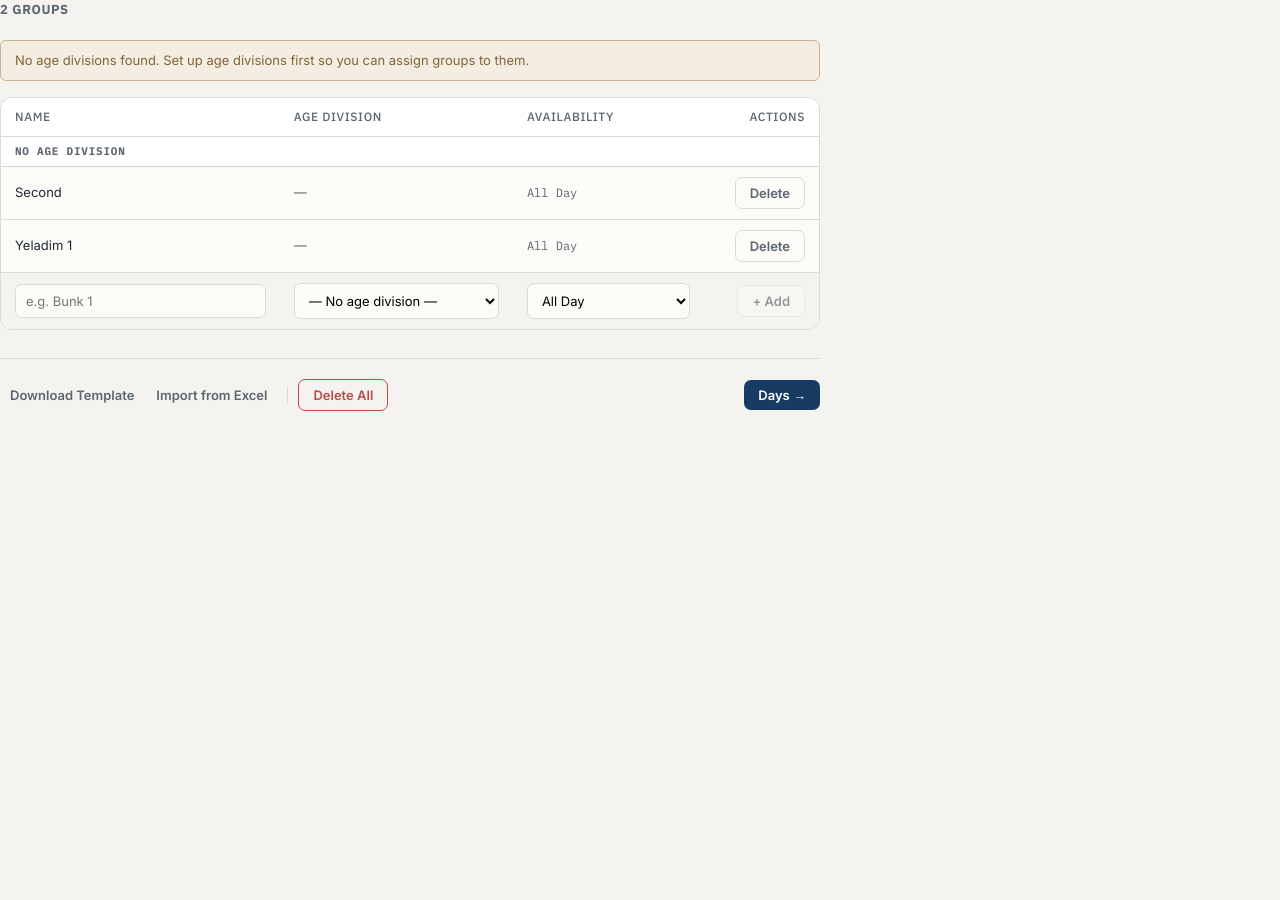
Scenario: GroupsScreen › deleteAll surfaces a partial-failure count rather than silently succeeding or aborting
expect the button "Yeladim 1" is shown: met, box [15,237,72,253]
Click the button "Delete All".
click(343, 394)  # box [298,378,388,410]
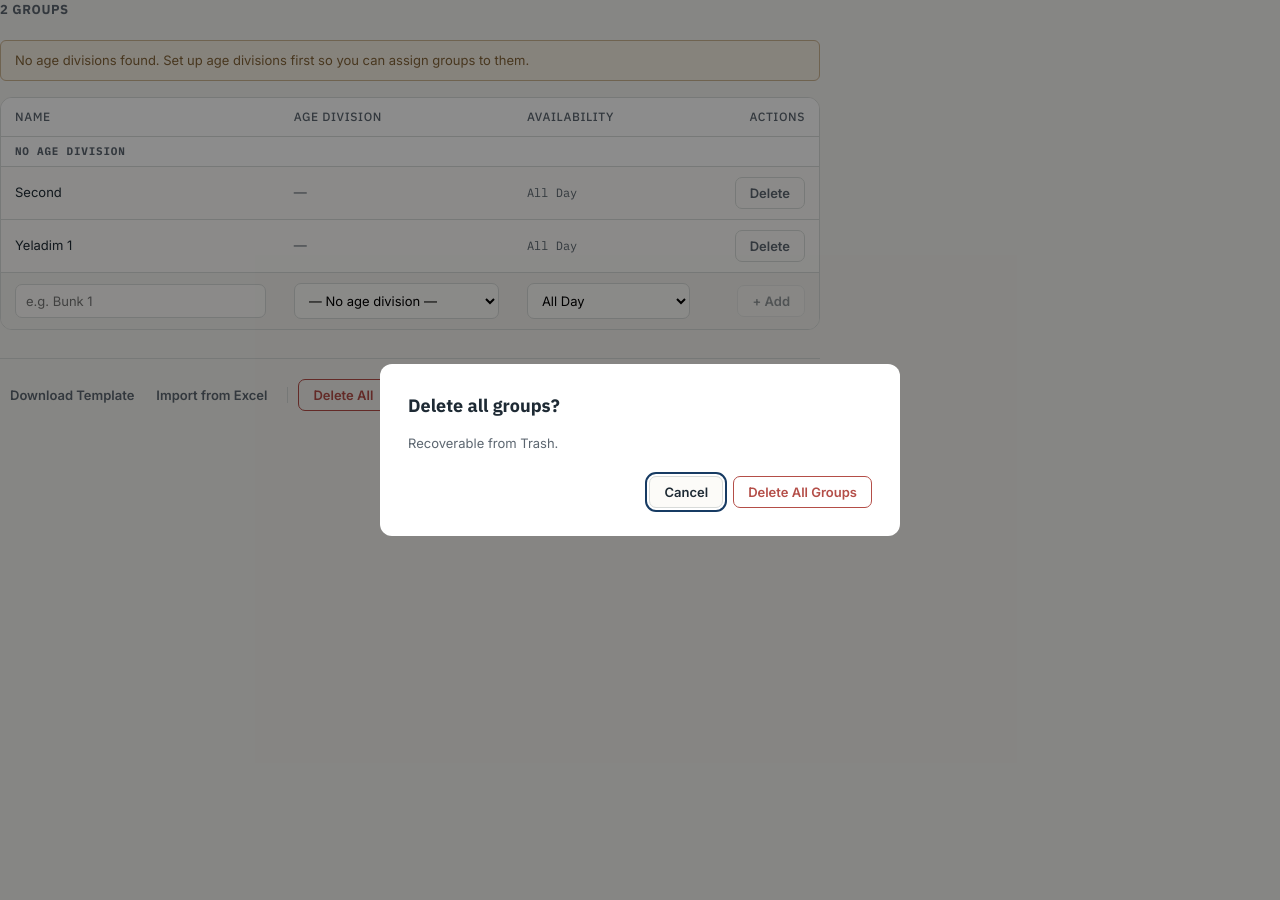
expect the text "Delete all groups?" is shown: met, box [408,394,560,417]
Click the button "Delete All Groups".
click(803, 492)  # box [733,476,872,508]
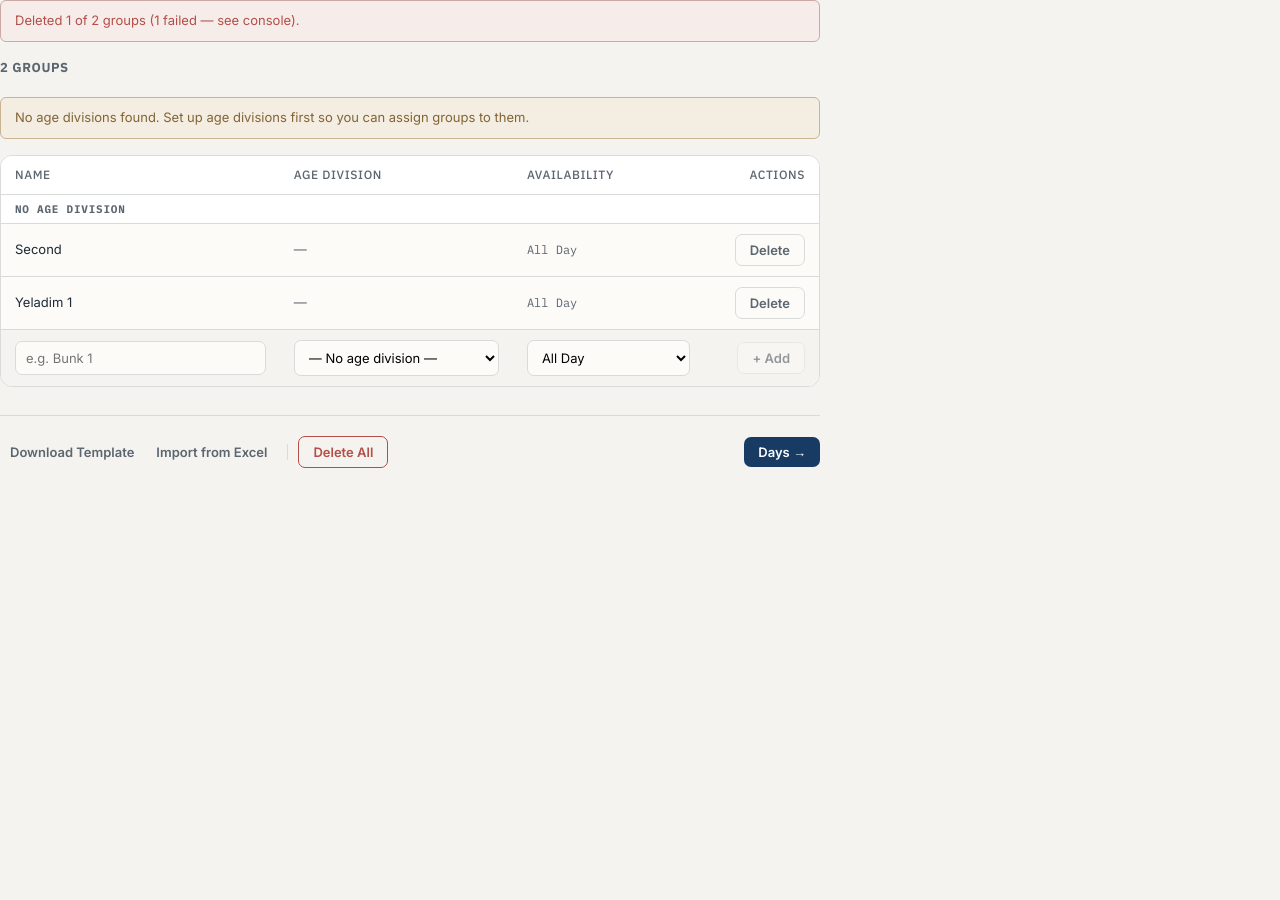
expect the text "Deleted 1 of 2 groups (1 failed — see console)." is shown: met, box [0,0,820,42]
